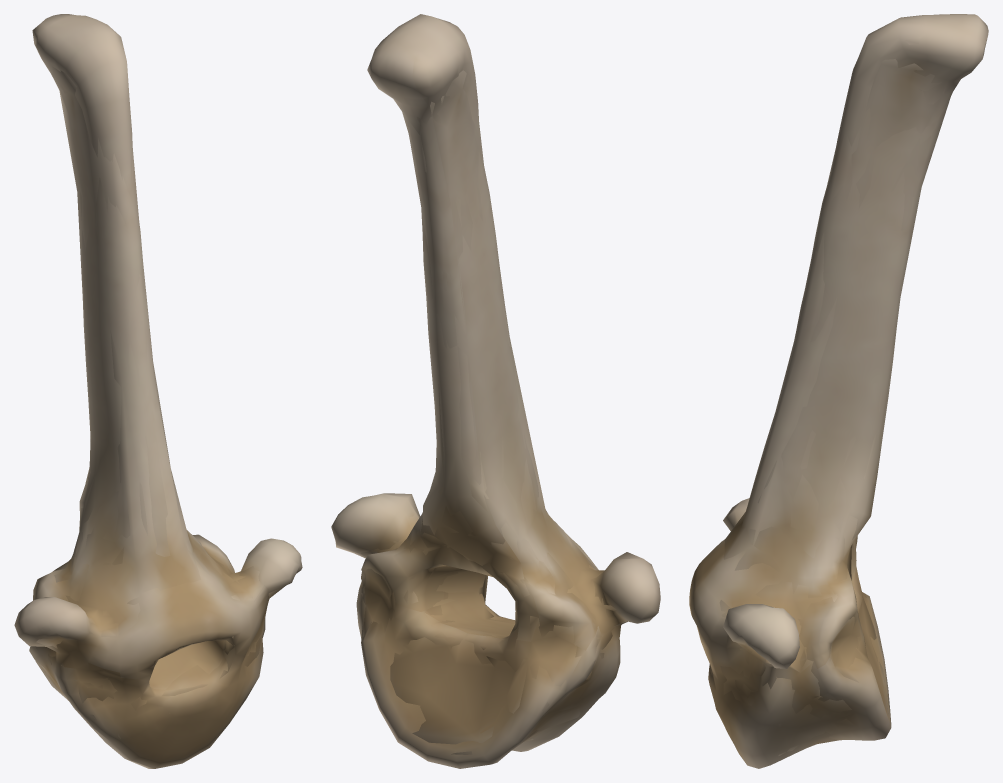
File: vertebrae thoracicae 04.fbx
3 renders of one model, left to right at view 1: azimuth 30°, elevation 25°; view 2: azimuth 150°, elevation 25°; view 3: azimuth 270°, elevation 25°, orthographic. The views are drawn at different scales.
Parts seen in each view (by area): view 1: vertebrae thoracicae 04, vertebrae thoracicae 04 low; view 2: vertebrae thoracicae 04, vertebrae thoracicae 04 low; view 3: vertebrae thoracicae 04, vertebrae thoracicae 04 low.
Boxes of the visible parts, box(x1,y1,x2,y2) form: vertebrae thoracicae 04: box(14, 14, 302, 768); vertebrae thoracicae 04 low: box(36, 66, 285, 745); vertebrae thoracicae 04: box(331, 14, 660, 768); vertebrae thoracicae 04 low: box(352, 70, 624, 754); vertebrae thoracicae 04: box(689, 14, 988, 768); vertebrae thoracicae 04 low: box(697, 37, 952, 755).
Size of the model in its own units: 10.29 by 23.87 by 8.74.
1 material, 1 textured.
